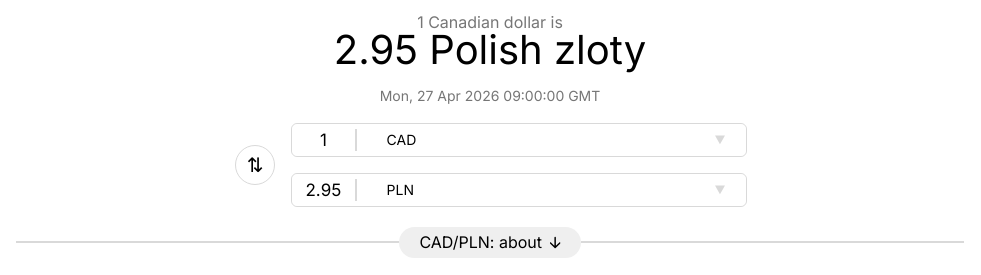
Test: CurrencyConverter › recalculates result when amount changes
expect the 2nd field holds "2.95": met, box x1=292 y1=174 x2=355 y2=206
Replace the text in the 1st field with "10": (323, 140) x1=292 y1=124 x2=355 y2=156
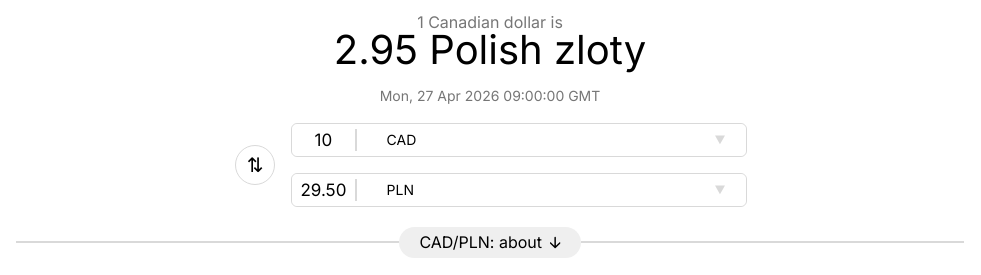
expect the 2nd field holds "29.50": met, box x1=292 y1=174 x2=355 y2=206
